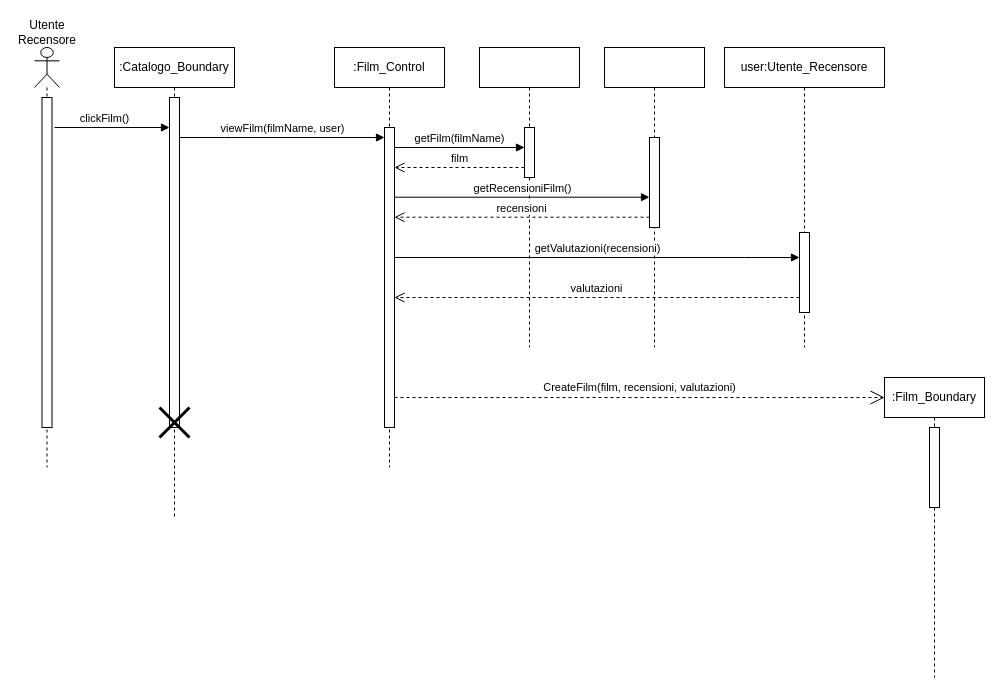
Image size: 1002x695. Some labels were removed from this diagram. The shapes that lost their labels are listed below. From the top down, each one's centre as x and y in pixels, then its label:
point 529,197: :Catalogo
point 654,197: film:Film
